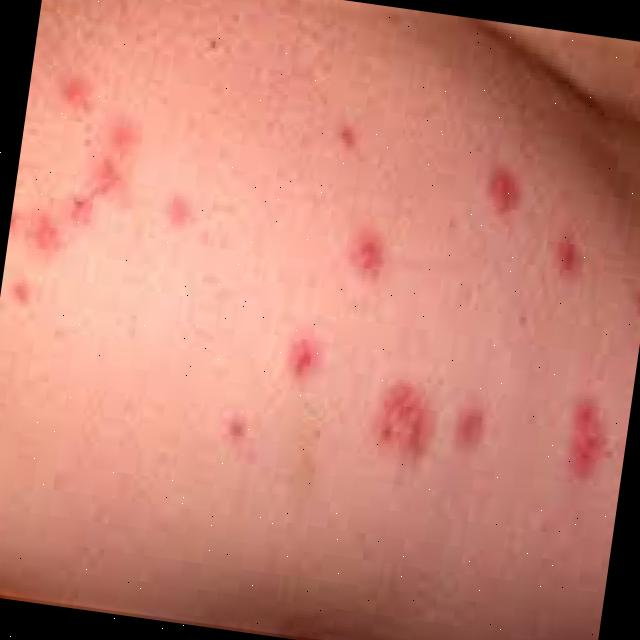tahta-kurusu: (40, 68, 264, 290), (525, 402, 631, 504), (458, 168, 543, 269), (369, 371, 447, 472), (332, 220, 401, 310), (305, 116, 372, 194), (277, 331, 351, 399), (443, 397, 498, 457), (541, 225, 582, 296)
